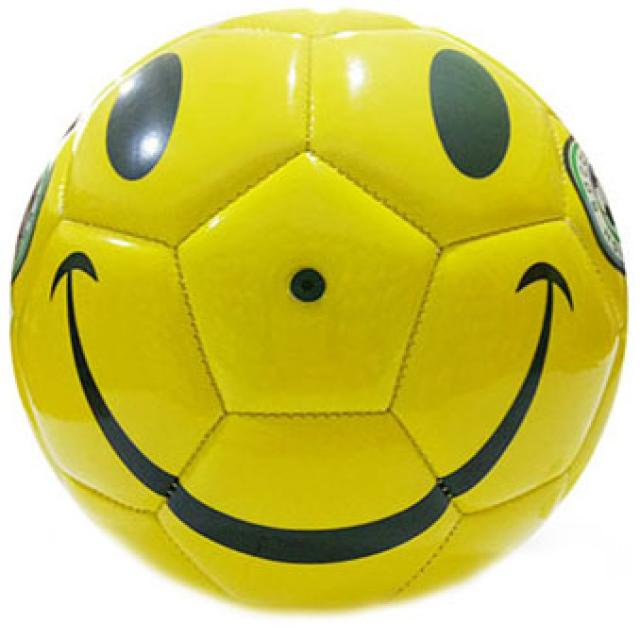soccer ball: (13, 13, 629, 612)
